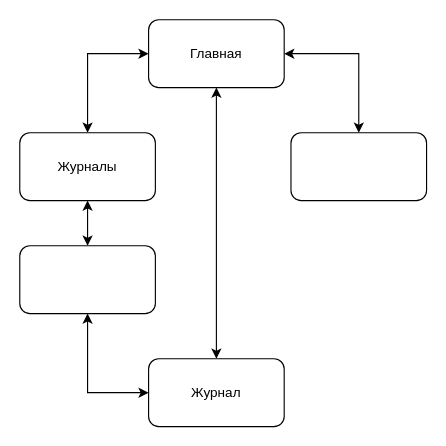
This 446x446 diagram has some shape labels left out. The box of each missing label's shape, as (x1, y1, x2, y2) in pixels:
Контакты: (290, 132, 427, 201)
Подробнее: (19, 245, 155, 314)
